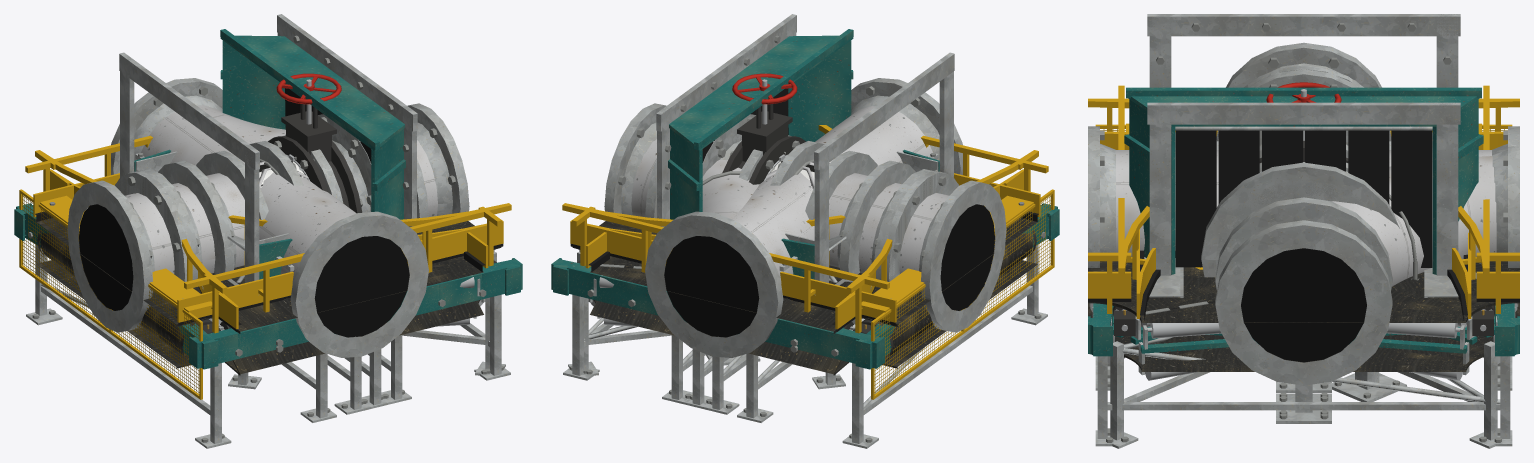
The model's file is Conveyor_v2.glb.
The picture shows the model from 3 angles, left to right: view 1: azimuth 30°, elevation 25°; view 2: azimuth 150°, elevation 25°; view 3: azimuth 270°, elevation 25°; orthographic projection. The views are drawn at different scales.
Parts seen in each view (by area): view 1: CV_PortIn_Chute, PP_Straight_Flanges, PP_Cross_Flanges, PP_Cross_Bore, CV_MergeSides_EndGuard, CV_Straight_Guards, CV_PortOut_Collar, PP_Cross_Tint, CV_MergeLeft_Legs, PP_Straight_Tint, PP_Straight_Bore, PP_Bridge2_Flanges (+36 smaller); view 2: CV_PortIn_Chute, PP_Straight_Flanges, PP_Elbow_Flanges, PP_Elbow_Bore, CV_MergeSides_EndGuard, CV_Straight_Guards, PP_Cross_Tint, CV_PortOut_Collar, CV_MergeLeft_Legs, CV_Straight_Frame, PP_Straight_Bore, CV_PortIn_Collar (+32 smaller); view 3: CV_PortIn_Curtain, PP_Straight_Flanges, CV_PortIn_Collar, CV_PortIn_Chute, PP_Straight_Bore, CV_PortOut_Collar, CV_TurnLeft_Belt, CV_MergeLeft_Legs, PP_Port_Flanges, PP_Elbow_Tint, CV_TurnRight_Belt, PP_Bridge3_Flanges (+29 smaller).
Boxes of the visible parts, bbox=[...] form: CV_PortIn_Chute: bbox=[220, 29, 405, 219]; PP_Straight_Flanges: bbox=[67, 103, 469, 332]; PP_Cross_Flanges: bbox=[290, 211, 428, 357]; PP_Cross_Bore: bbox=[314, 236, 409, 337]; CV_MergeSides_EndGuard: bbox=[19, 189, 212, 399]; CV_Straight_Guards: bbox=[25, 136, 511, 322]; CV_PortOut_Collar: bbox=[119, 52, 259, 282]; PP_Cross_Tint: bbox=[149, 112, 356, 283]; CV_MergeLeft_Legs: bbox=[26, 244, 510, 448]; PP_Straight_Tint: bbox=[125, 140, 437, 273]; PP_Straight_Bore: bbox=[79, 204, 133, 310]; PP_Bridge2_Flanges: bbox=[158, 130, 371, 274]; CV_PortIn_Chute: bbox=[668, 29, 853, 219]; PP_Straight_Flanges: bbox=[604, 103, 1006, 332]; PP_Elbow_Flanges: bbox=[645, 211, 783, 357]; PP_Elbow_Bore: bbox=[664, 236, 759, 337]; CV_MergeSides_EndGuard: bbox=[861, 189, 1054, 399]; CV_Straight_Guards: bbox=[562, 136, 1048, 322]; PP_Cross_Tint: bbox=[732, 106, 932, 272]; CV_PortOut_Collar: bbox=[814, 52, 954, 282]; CV_MergeLeft_Legs: bbox=[563, 244, 1047, 448]; CV_Straight_Frame: bbox=[553, 208, 1059, 368]; PP_Straight_Bore: bbox=[940, 204, 994, 310]; CV_PortIn_Collar: bbox=[656, 14, 796, 226]; CV_PortIn_Curtain: bbox=[1175, 130, 1432, 267]; PP_Straight_Flanges: bbox=[1215, 42, 1392, 385]; CV_PortIn_Collar: bbox=[1147, 102, 1460, 275]; CV_PortIn_Chute: bbox=[1124, 87, 1483, 274]; PP_Straight_Bore: bbox=[1241, 248, 1366, 362]; CV_PortOut_Collar: bbox=[1147, 14, 1460, 87]; CV_TurnLeft_Belt: bbox=[1142, 261, 1519, 371]; CV_MergeLeft_Legs: bbox=[1095, 348, 1512, 446]; PP_Port_Flanges: bbox=[1201, 145, 1399, 277]; PP_Elbow_Tint: bbox=[1332, 156, 1496, 286]; CV_TurnRight_Belt: bbox=[1088, 261, 1464, 371]; PP_Bridge3_Flanges: bbox=[1215, 69, 1392, 348].
Bounding box in the file's own units: 4 × 3.13 × 4.
16 materials, 7 textured.
